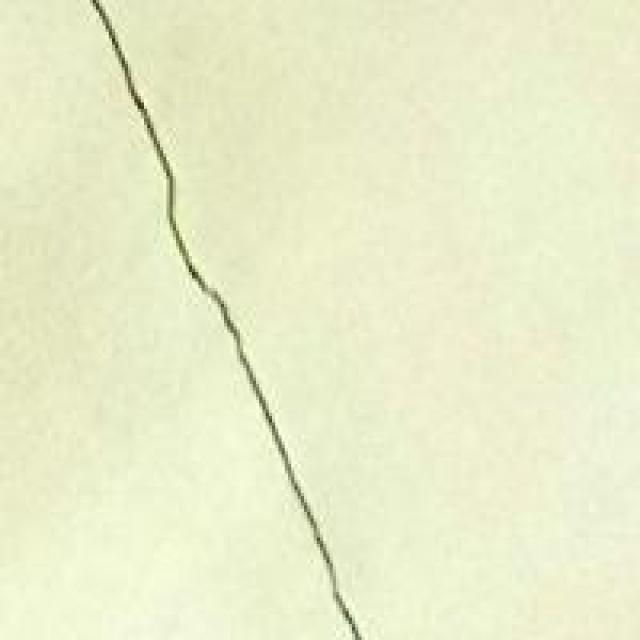crack: (64, 3, 371, 634)
